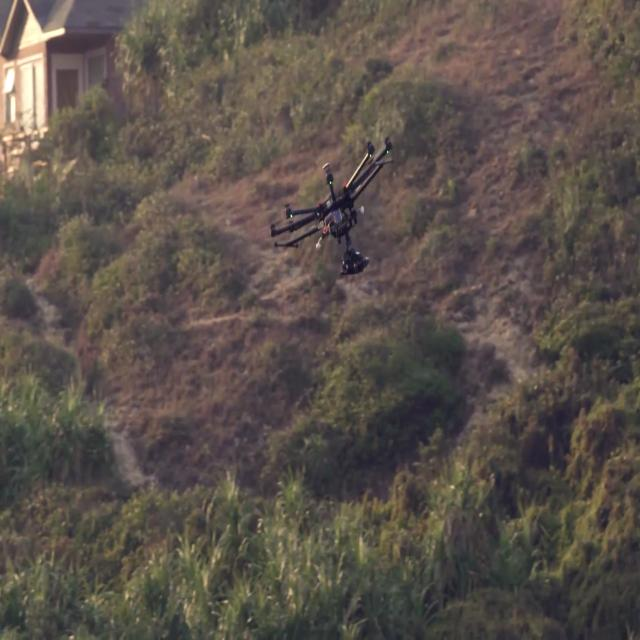drone: (283, 138, 448, 302)
